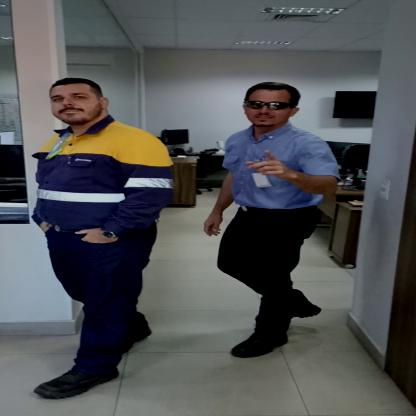Operacional: (36, 124, 173, 239)
